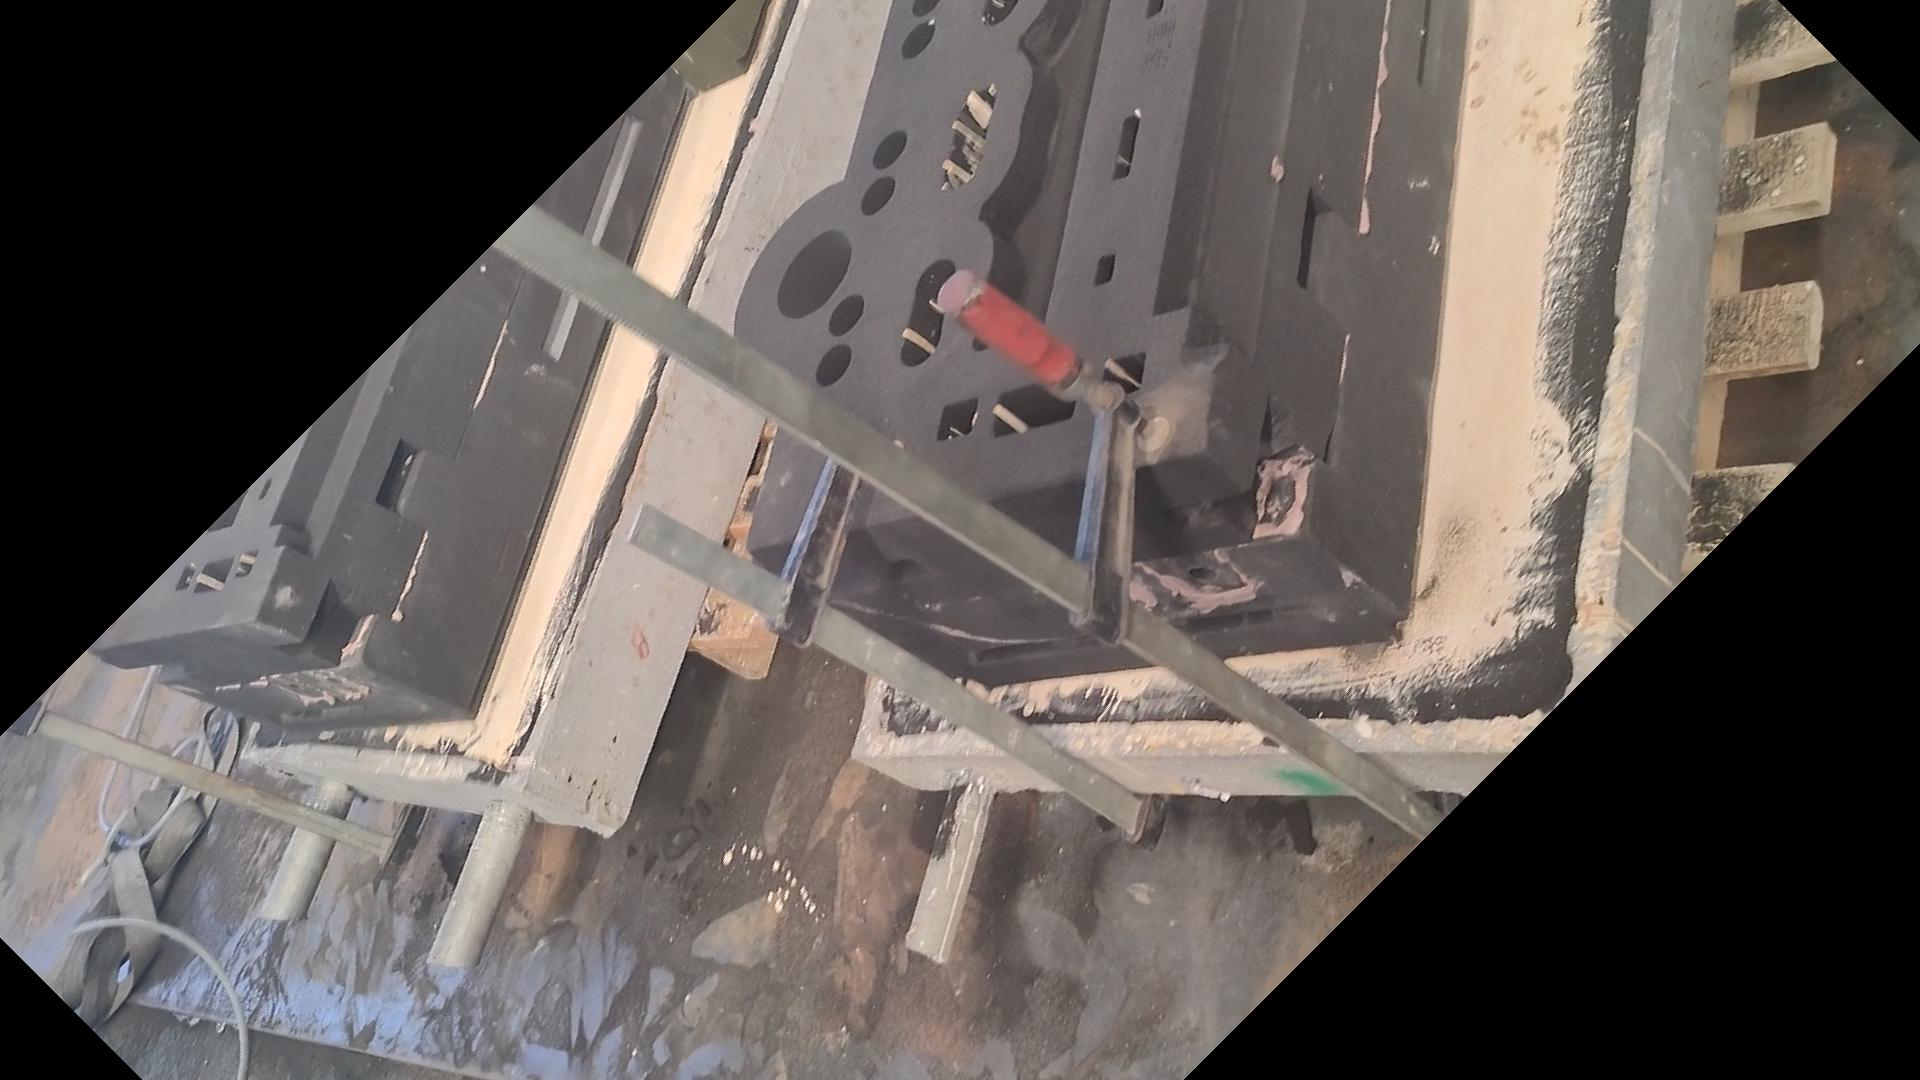pouring hole: (777, 225, 852, 320)
